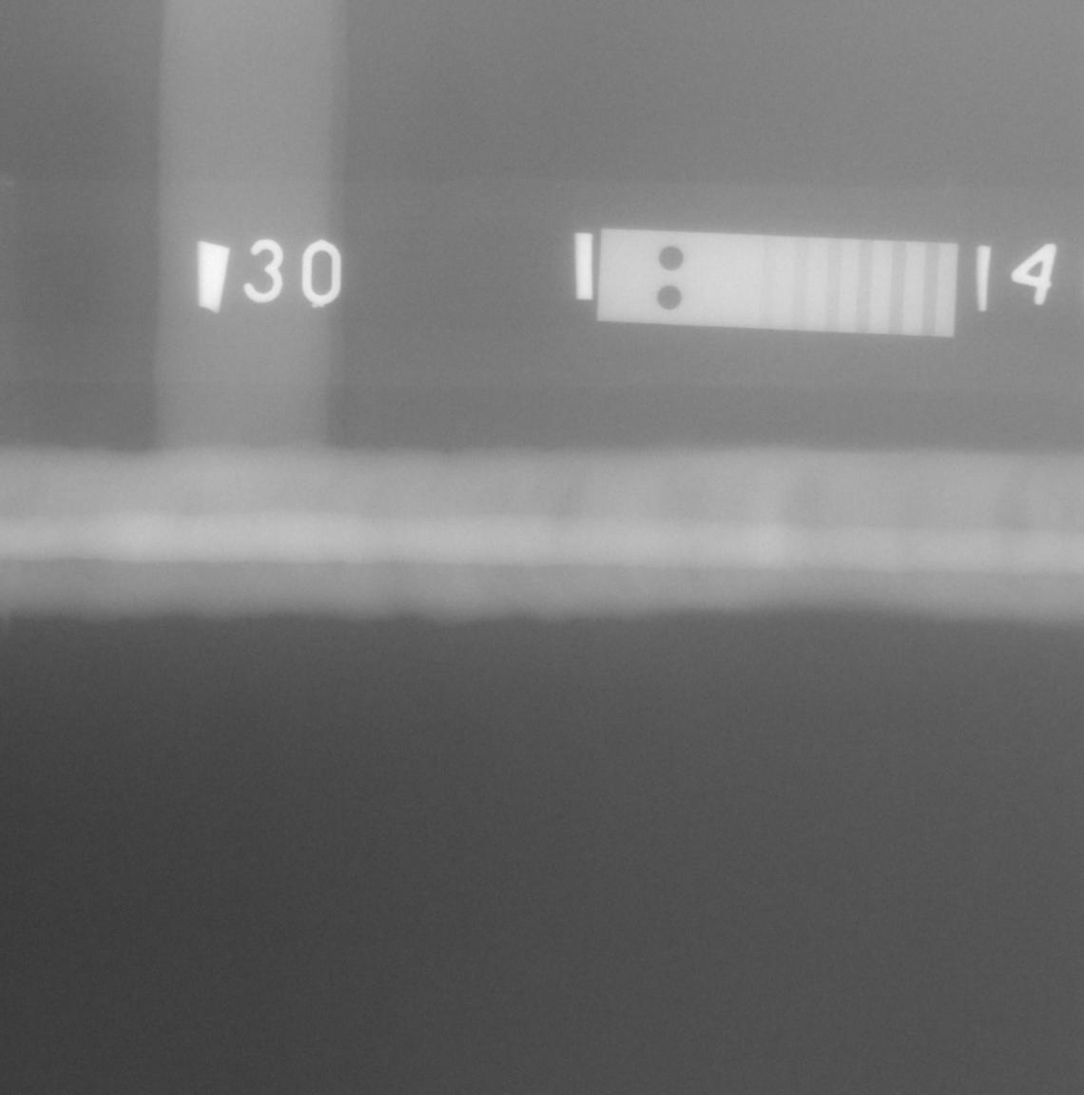Reference Standard 2: (597, 228, 958, 337)
